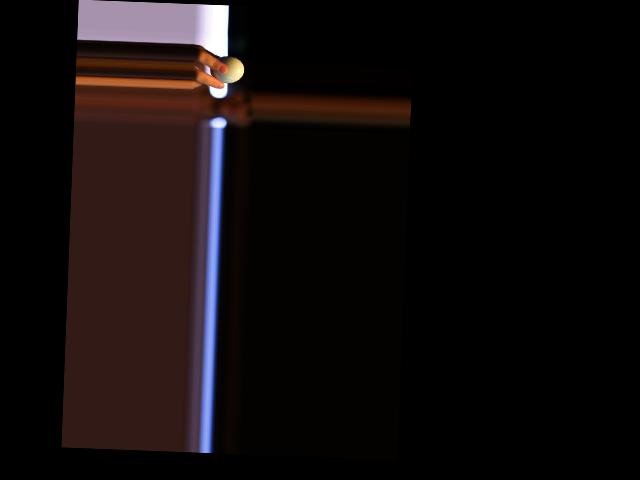egg: (209, 56, 244, 84)
